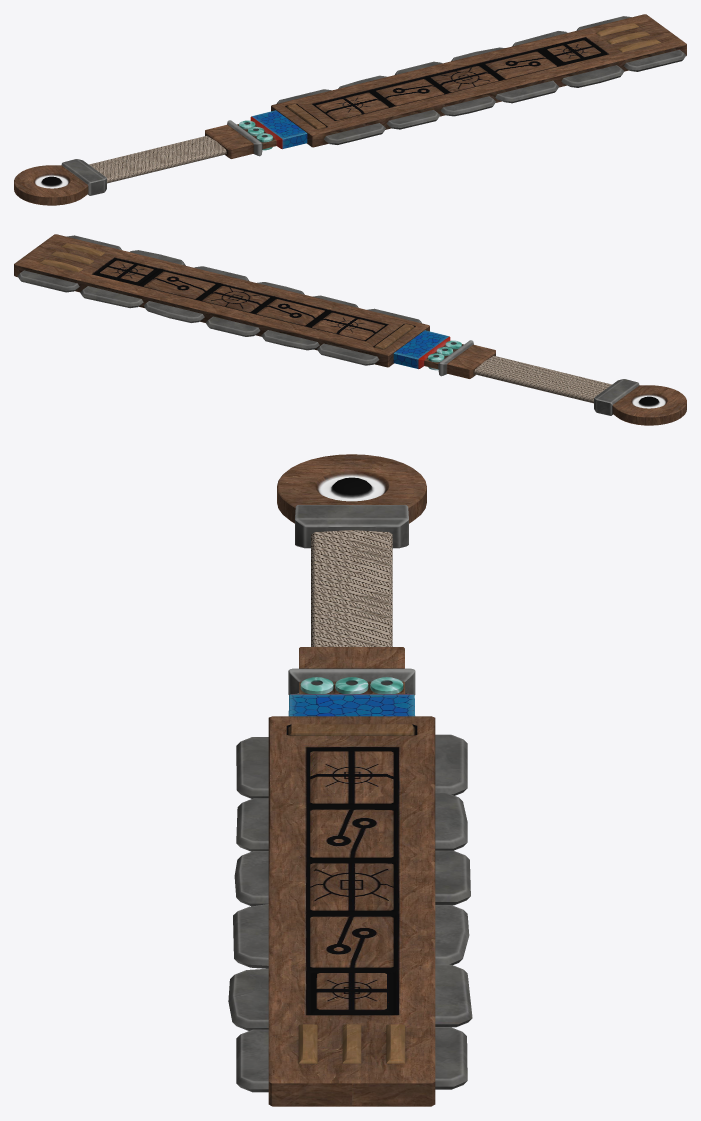
File: aztec_sword.fbx
3 views of the same model, one above another, from view 1: azimuth 30°, elevation 25°; view 2: azimuth 150°, elevation 25°; view 3: azimuth 270°, elevation 25° (orthographic). The views are drawn at different scales.
Parts seen in each view (by area): view 1: aztec_sword; view 2: aztec_sword; view 3: aztec_sword.
Part boxes in pixels (x1,y1,x2,y2): aztec_sword: (14, 14, 686, 205); aztec_sword: (14, 234, 686, 425); aztec_sword: (228, 454, 472, 1106).
Size of the model in its own units: 2239 by 53.71 by 365.
1 material, 1 textured.
